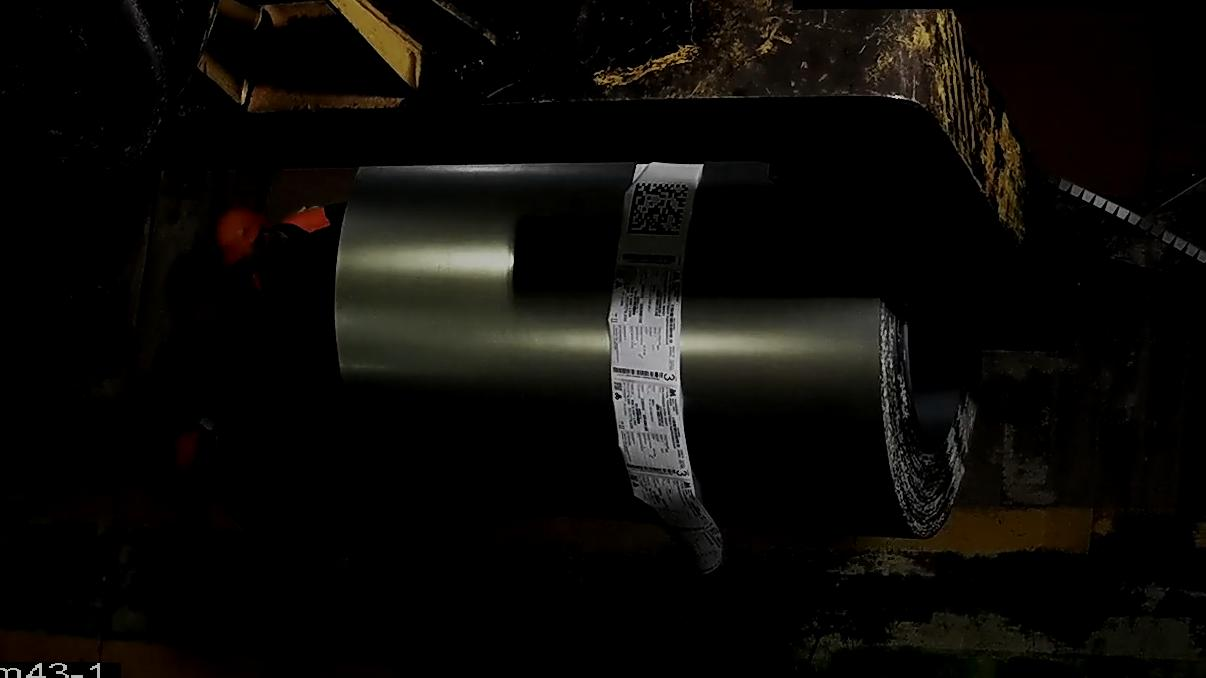data matrix: (626, 180, 692, 238)
